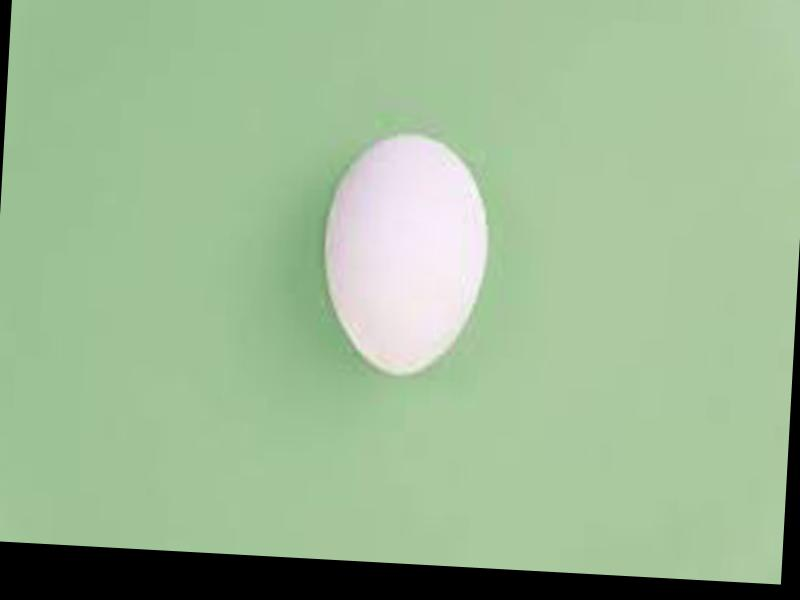Eggs: (315, 126, 493, 379)
